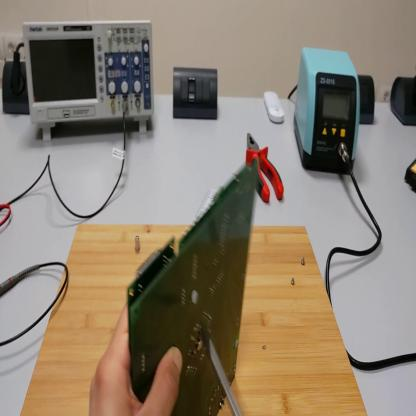hand: (91, 304, 182, 415)
low voltage board: (132, 162, 267, 416)
oscilloscope: (24, 19, 156, 142)
oscilloscope probe tip: (2, 264, 37, 297)
pliers: (247, 133, 286, 206)
screwdriver-: (200, 310, 251, 416)
socket: (4, 58, 32, 116), (388, 75, 416, 127), (360, 74, 377, 125)
welder base: (405, 157, 416, 198)
welder station: (295, 48, 361, 178)
working area: (22, 229, 368, 416)
